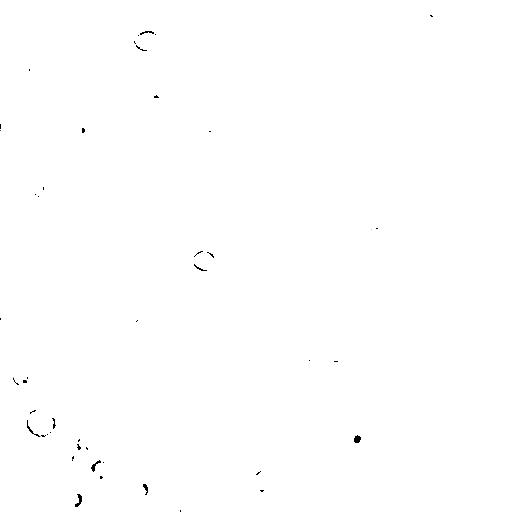micro-algae: (313, 257, 385, 330), (1, 103, 54, 171), (193, 363, 234, 406), (349, 143, 387, 179), (261, 19, 299, 53), (51, 431, 81, 473), (338, 422, 376, 453), (182, 54, 215, 87), (25, 406, 57, 438), (415, 0, 449, 27), (181, 101, 210, 131), (397, 230, 425, 261), (397, 275, 428, 302), (69, 111, 93, 144), (216, 455, 244, 483), (282, 57, 309, 86), (131, 29, 162, 54), (251, 467, 278, 494), (77, 77, 103, 103), (55, 37, 82, 62), (90, 43, 117, 68), (403, 306, 427, 332), (202, 128, 229, 151), (250, 127, 273, 153), (343, 92, 369, 115), (295, 347, 321, 370), (128, 477, 152, 500), (192, 249, 216, 271), (75, 433, 99, 455), (91, 459, 113, 481), (179, 287, 199, 311), (60, 490, 84, 510), (361, 224, 383, 245), (5, 130, 25, 153), (123, 305, 142, 328), (497, 13, 511, 43), (327, 343, 349, 361), (383, 403, 405, 421), (377, 316, 395, 336), (13, 367, 29, 387), (177, 501, 203, 511), (27, 61, 43, 77), (75, 453, 93, 467), (36, 0, 54, 13), (32, 180, 43, 200)
